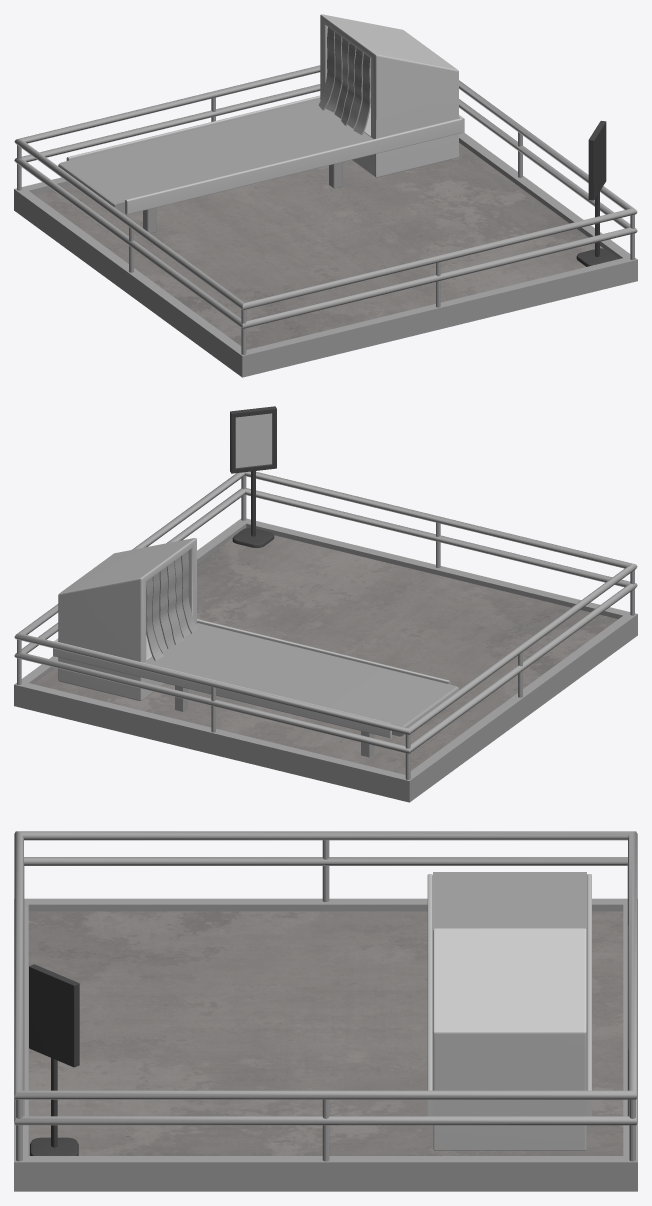
The model's file is platform_concept_02.fbx.
3 renders of one model, top to bottom at view 1: azimuth 30°, elevation 25°; view 2: azimuth 150°, elevation 25°; view 3: azimuth 270°, elevation 25°, orthographic. The views are drawn at different scales.
Parts seen in each view (by area): view 1: floor, platform_frame, railing_02, conveyor, conveyor_house_02, conveyor_frame, conveyor_curtains, sign_frame, conveyor_legs; view 2: floor, platform_frame, railing_02, conveyor, conveyor_house_02, conveyor_frame, conveyor_curtains, sign_screen, sign_frame, sign_base; view 3: floor, platform_frame, railing_02, conveyor_house_02, conveyor, conveyor_frame, sign_frame, sign_base.
Part boxes in pixels (x1,y1,x2,y2): floor: (34,143,603,349); platform_frame: (14,133,637,377); railing_02: (14,65,637,354); conveyor: (58,99,373,211); conveyor_house_02: (320,14,458,177); conveyor_frame: (66,95,464,214); conveyor_curtains: (318,27,370,135); sign_frame: (588,120,606,200); conveyor_legs: (143,162,342,233); floor: (34,535,617,774); platform_frame: (14,518,637,802); railing_02: (14,471,637,779); conveyor: (144,623,458,736); conveyor_house_02: (58,538,196,700); conveyor_frame: (53,619,450,738); conveyor_curtains: (146,551,196,660); sign_screen: (235,413,272,467); sign_frame: (230,406,276,473); sign_base: (232,527,274,547); floor: (28,911,623,1155); platform_frame: (14,898,637,1191); railing_02: (14,831,637,1161); conveyor_house_02: (433,928,586,1150); conveyor: (433,872,586,930); conveyor_frame: (427,874,591,1116); sign_frame: (29,964,79,1067); sign_base: (30,1137,78,1155).
Bounding box in the file's own units: 777 × 274 × 777.
